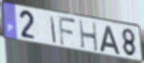2: (17, 9, 39, 42)
8: (121, 28, 137, 58)
A: (99, 25, 121, 55)
F: (57, 15, 77, 48)
H: (78, 19, 99, 54)
I: (50, 16, 57, 45)
